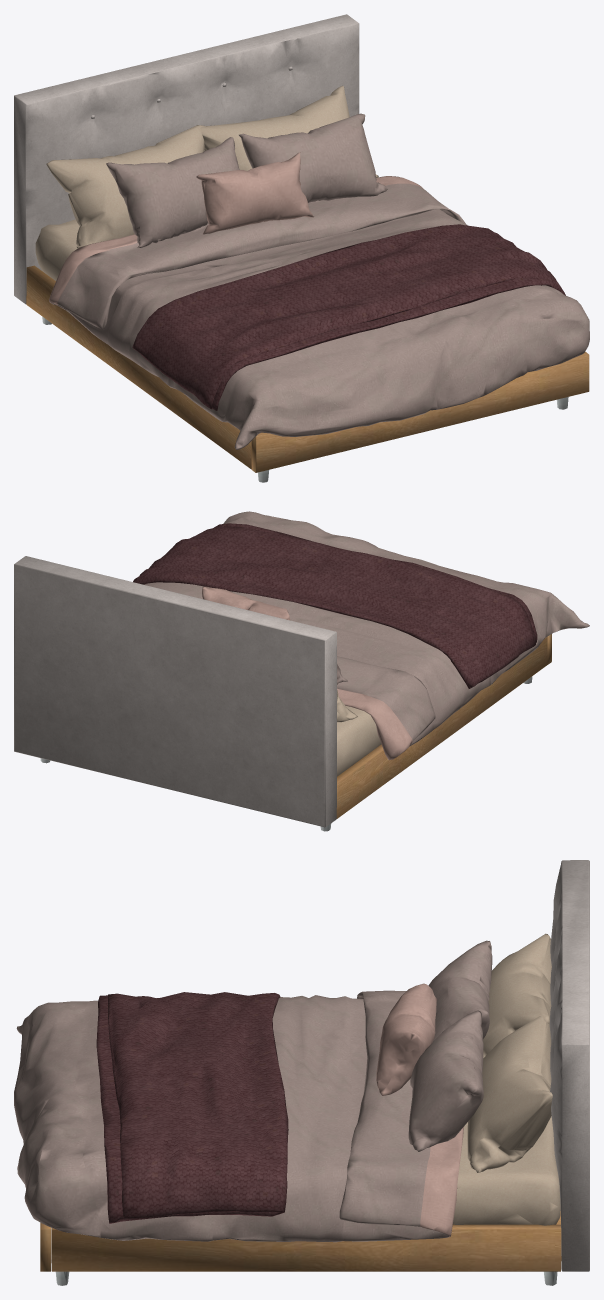
The model's file is cargo_bed_a.glb.
The picture shows the model from 3 angles, top to bottom: view 1: azimuth 30°, elevation 25°; view 2: azimuth 150°, elevation 25°; view 3: azimuth 270°, elevation 25°; orthographic projection. The views are drawn at different scales.
Parts seen in each view (by area): view 1: KB3D_API_PropBed_A_Main; view 2: KB3D_API_PropBed_A_Main; view 3: KB3D_API_PropBed_A_Main.
Boxes of the visible parts, <box> form: KB3D_API_PropBed_A_Main: <box>14,14,589,482</box>; KB3D_API_PropBed_A_Main: <box>14,511,589,831</box>; KB3D_API_PropBed_A_Main: <box>14,860,589,1285</box>.
Size of the model in its own units: 1.89 by 1.02 by 2.15.
Materials: 6 (6 with a texture image).
